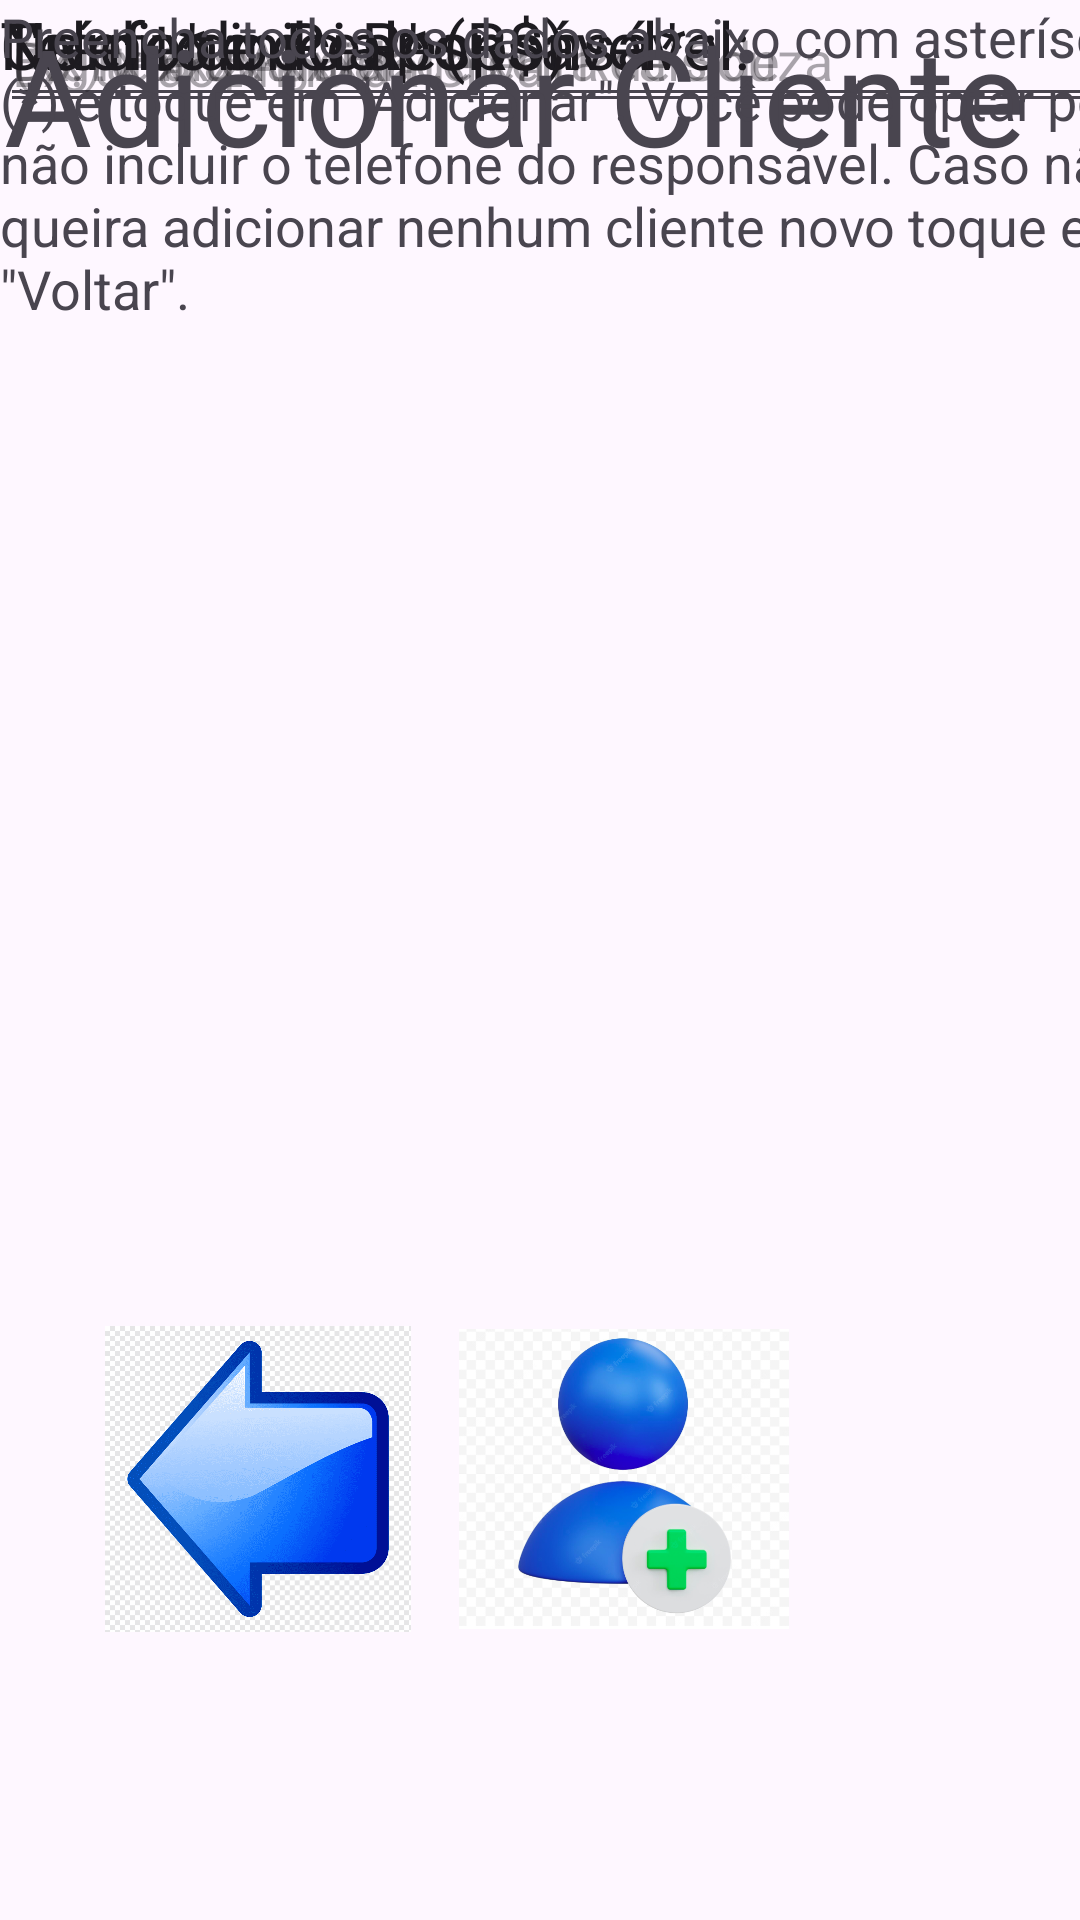

Where icons sit on this 1080×1920 app screen, as [x1,y1,x2,y2]:
Adicionar cliente: [518,1338,731,1613]
Voltar menu: [127,1341,389,1617]
